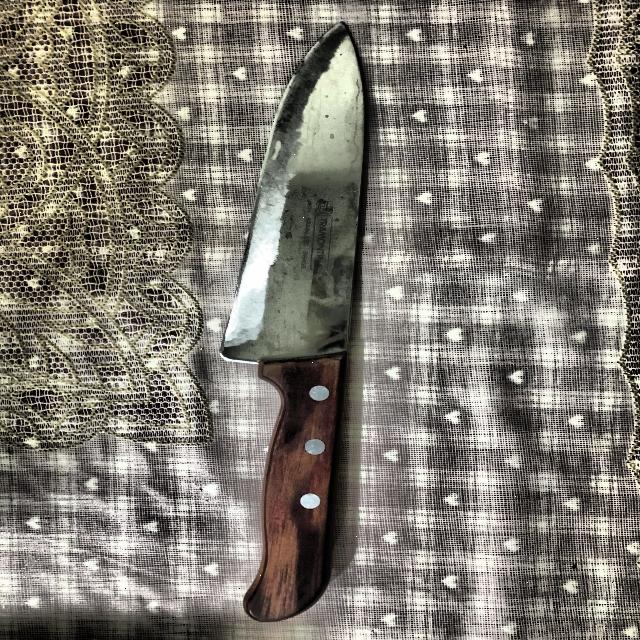knife: (226, 26, 365, 622)
